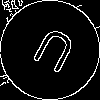U: (25, 25, 79, 83)
